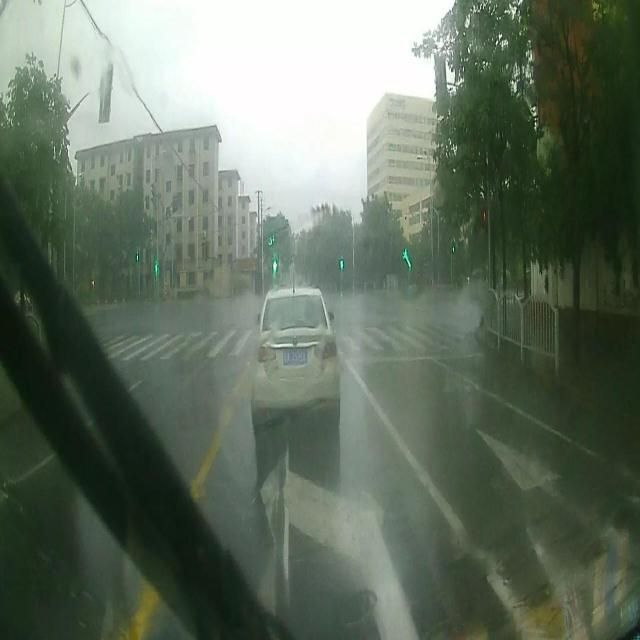car: (248, 268, 342, 438)
